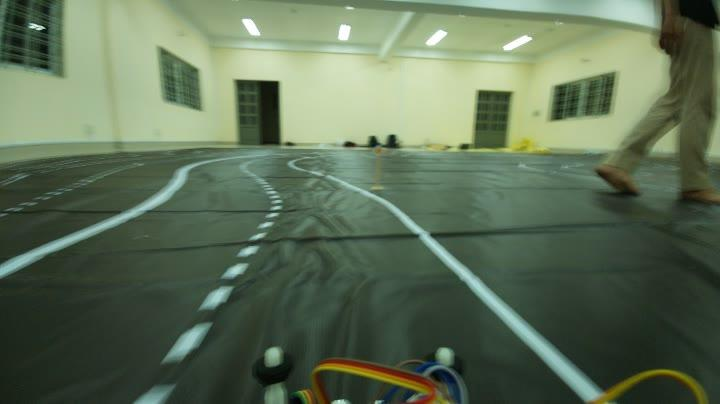priority: (371, 142, 382, 156)
